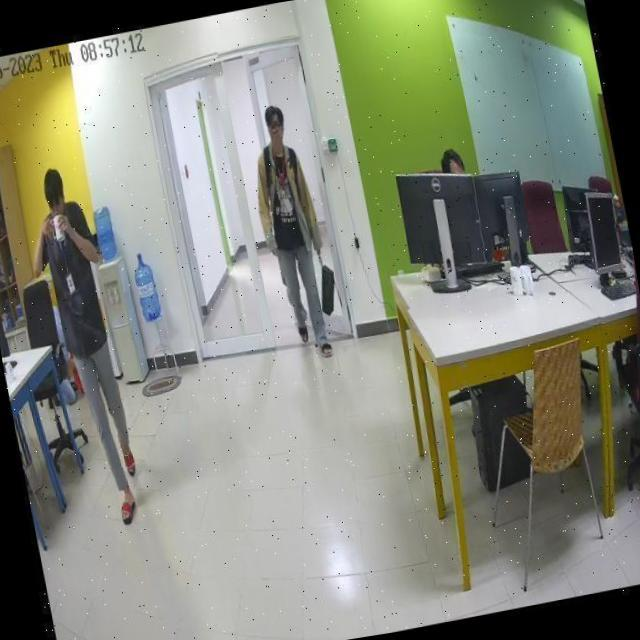person: (26, 160, 152, 528), (244, 100, 340, 368)
